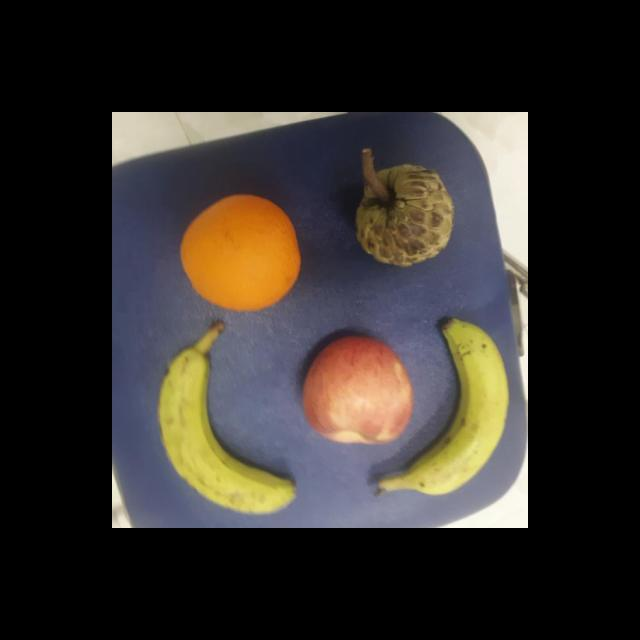Sakya fruit: (354, 162, 454, 268)
apple: (302, 334, 416, 448)
banana: (154, 348, 302, 516), (404, 318, 508, 504)
orange: (177, 192, 302, 312)
